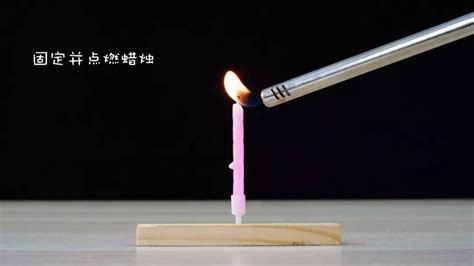Fire: (216, 62, 262, 109)
